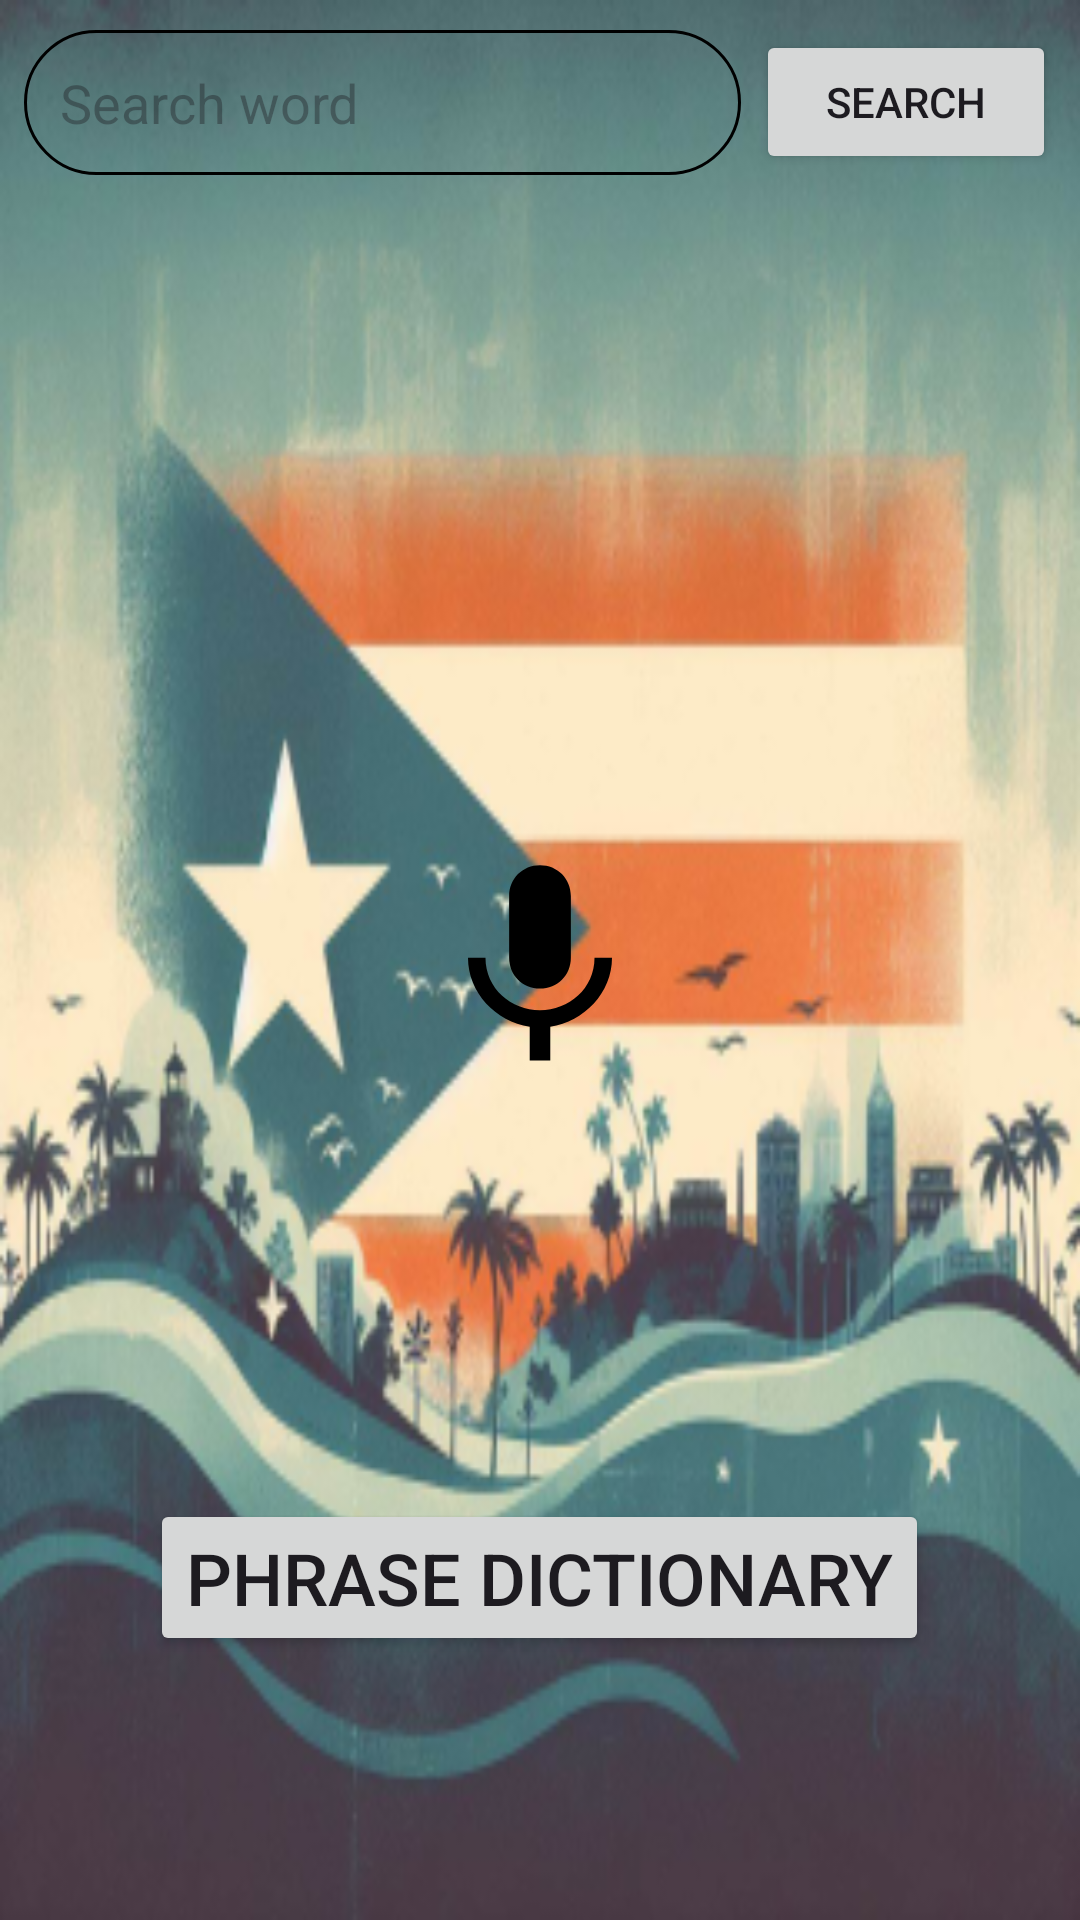

Point at icon controls on the screen. Image size 1080w x 1920h, points as [x,y].
mic icon: [540,963]
